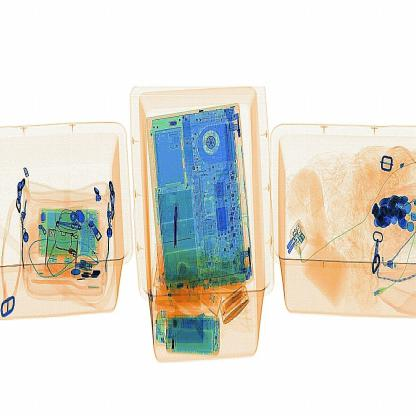knife: (168, 187, 192, 250)
